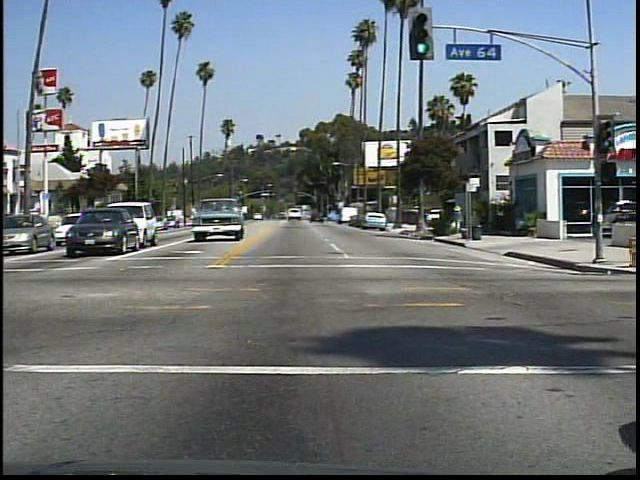person: (449, 201, 465, 236)
